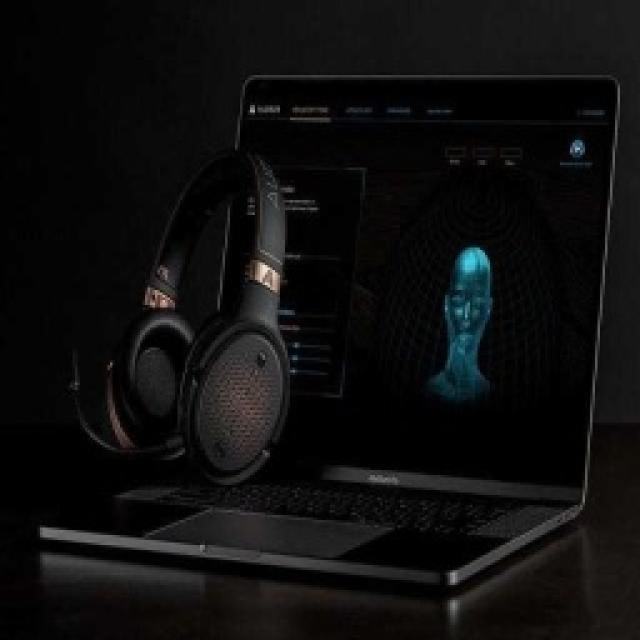headphones: (68, 145, 292, 485)
